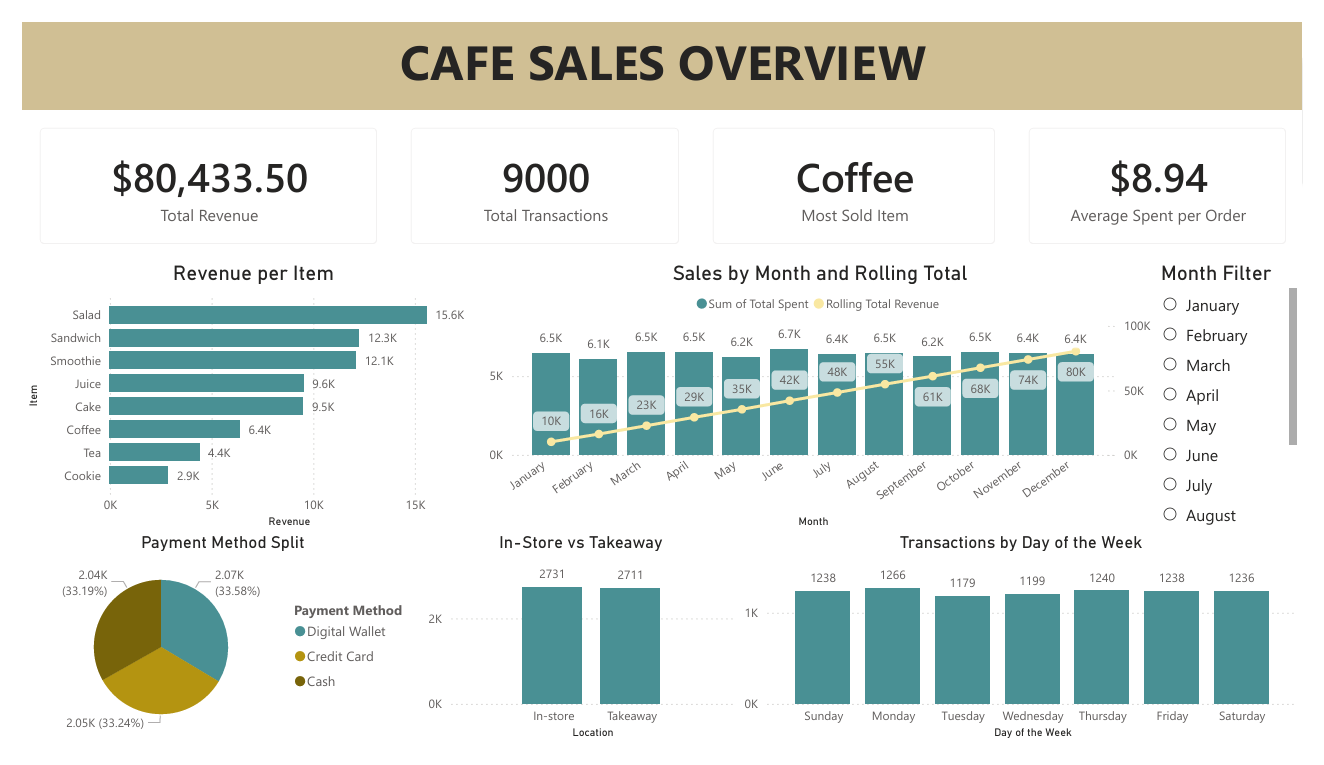

What the dashboard file says about the page in this screenshot:
{"tool":"powerbi","page":{"name":"Page 1","canvas":[1280,720],"ordinal":0},"visuals":[{"type":"textbox","box":[0,0,1280,88],"z":0},{"type":"cardVisual","fields":{"Data":["Sum(cafe_sales_cleaned.Total Spent)"]},"box":[0,88,371,150],"z":1000},{"type":"cardVisual","fields":{"Data":["CountNonNull(cafe_sales_cleaned.Transaction ID)"]},"box":[371,88,302,150],"z":2000},{"type":"cardVisual","fields":{"Data":["Min(cafe_sales_cleaned.Item)"]},"box":[673,88,316,150],"z":3000},{"type":"barChart","title":"Revenue per Item","fields":{"Category":["cafe_sales_cleaned.Item"],"Y":["Sum(cafe_sales_cleaned.Total Spent)"]},"box":[0,238,461,271],"z":4000},{"type":"lineStackedColumnComboChart","title":"Sales by Month and Rolling Total","fields":{"Category":["cafe_sales_cleaned.Month"],"Y":["Sum(cafe_sales_cleaned.Total Spent)"],"Y2":["cafe_sales_cleaned.Rolling Total Revenue"]},"box":[461,238,672,271],"z":5000},{"type":"columnChart","title":"Transactions by Day of the Week","fields":{"Category":["cafe_sales_cleaned.Day_of_Week"],"Y":["CountNonNull(cafe_sales_cleaned.Transaction ID)"]},"box":[716,509,564,211],"z":6000},{"type":"cardVisual","fields":{"Data":["Avg(cafe_sales_cleaned.Total Spent)"]},"box":[989,88,291,150],"z":7000},{"type":"pieChart","title":"Payment Method Split","fields":{"Category":["cafe_sales_cleaned.Payment Method"],"Y":["CountNonNull(cafe_sales_cleaned.Transaction ID)"]},"box":[0,509,400,211],"z":8000},{"type":"columnChart","title":"In-Store vs Takeaway","fields":{"Y":["CountNonNull(cafe_sales_cleaned.Transaction ID)"],"Category":["cafe_sales_cleaned.Location"]},"box":[400,509,316,211],"z":9000},{"type":"listSlicer","fields":{"Values":["cafe_sales_cleaned.Month"]},"box":[1133,238,147,271],"z":10000}]}

Visuals, with their boxes in screenshot pixels (x1, y1, x2, y2), scaled from the page's 1280x720 canvas onto the 1324x765 screenshot:
textbox: pyautogui.locateOnScreen(0, 0, 1323, 94)
cardVisual - Sum(cafe_sales_cleaned.Total Spent): pyautogui.locateOnScreen(0, 94, 384, 253)
cardVisual - CountNonNull(cafe_sales_cleaned.Transaction ID): pyautogui.locateOnScreen(384, 94, 696, 253)
cardVisual - Min(cafe_sales_cleaned.Item): pyautogui.locateOnScreen(696, 94, 1023, 253)
"Revenue per Item" barChart: pyautogui.locateOnScreen(0, 253, 477, 541)
"Sales by Month and Rolling Total" lineStackedColumnComboChart: pyautogui.locateOnScreen(477, 253, 1172, 541)
"Transactions by Day of the Week" columnChart: pyautogui.locateOnScreen(741, 541, 1323, 764)
cardVisual - Avg(cafe_sales_cleaned.Total Spent): pyautogui.locateOnScreen(1023, 94, 1323, 253)
"Payment Method Split" pieChart: pyautogui.locateOnScreen(0, 541, 414, 764)
"In-Store vs Takeaway" columnChart: pyautogui.locateOnScreen(414, 541, 741, 764)
listSlicer - cafe_sales_cleaned.Month: pyautogui.locateOnScreen(1172, 253, 1323, 541)
